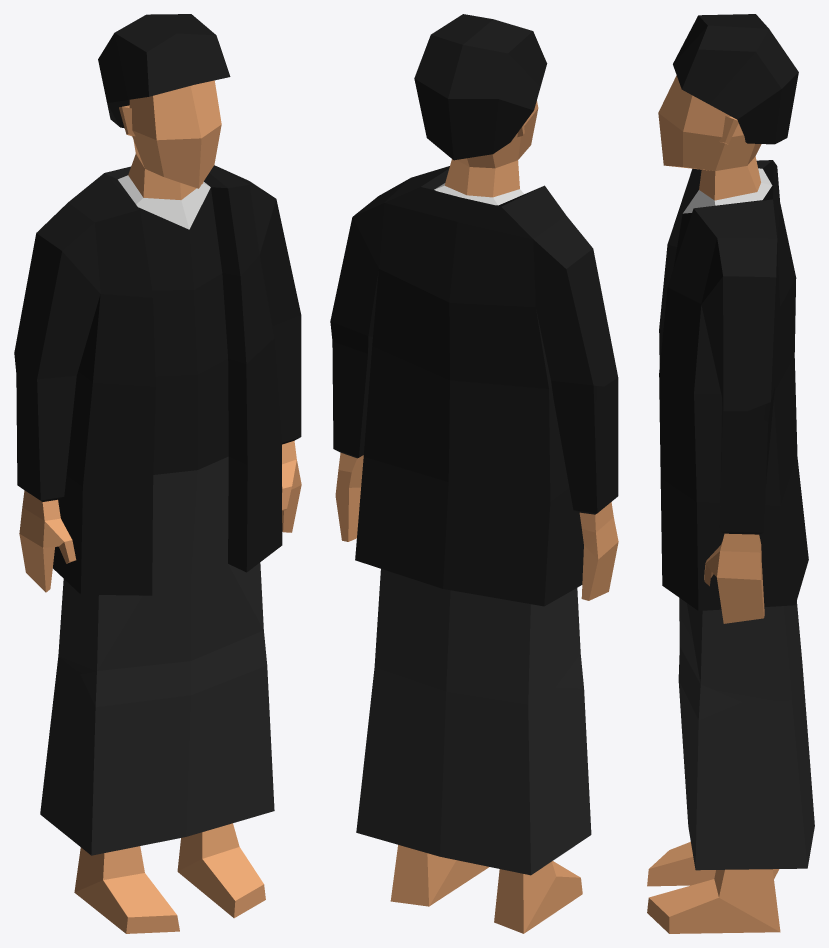
The model's file is people_man-samurai-black.fbx.
3 renders of one model, left to right at view 1: azimuth 30°, elevation 25°; view 2: azimuth 150°, elevation 25°; view 3: azimuth 270°, elevation 25°, orthographic.
Visible parts, largest first — view 1: people_man_samurai_black; view 2: people_man_samurai_black; view 3: people_man_samurai_black.
Part boxes in pixels (bbox=[...]): people_man_samurai_black: bbox=[14, 14, 301, 933]; people_man_samurai_black: bbox=[330, 14, 618, 933]; people_man_samurai_black: bbox=[647, 14, 814, 933].
Bounding box in the file's own units: 63.59 × 200 × 34.8.
